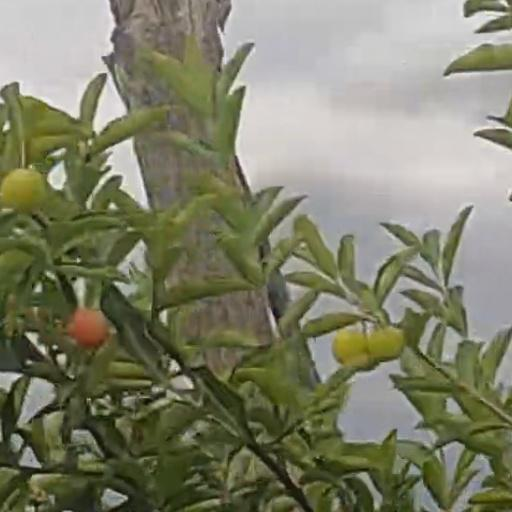acerola_verde: (4, 171, 44, 214), (370, 329, 405, 360), (334, 330, 365, 362)
acerola_vermelha: (70, 309, 107, 346)
